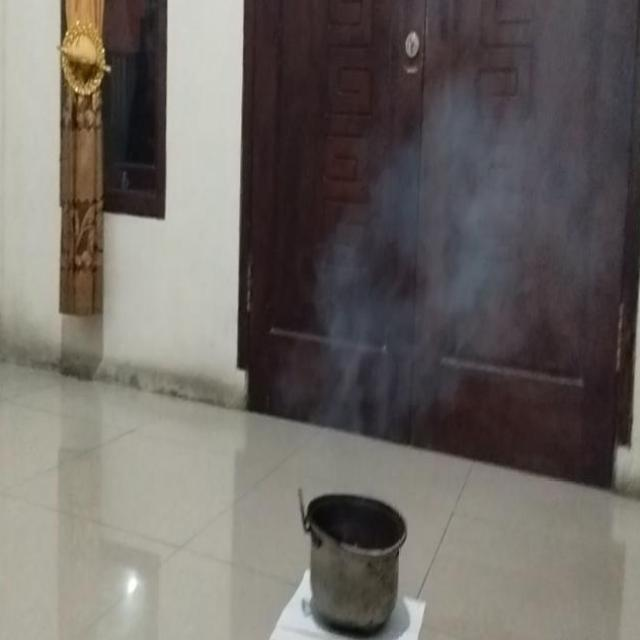fire: (312, 107, 588, 384)
